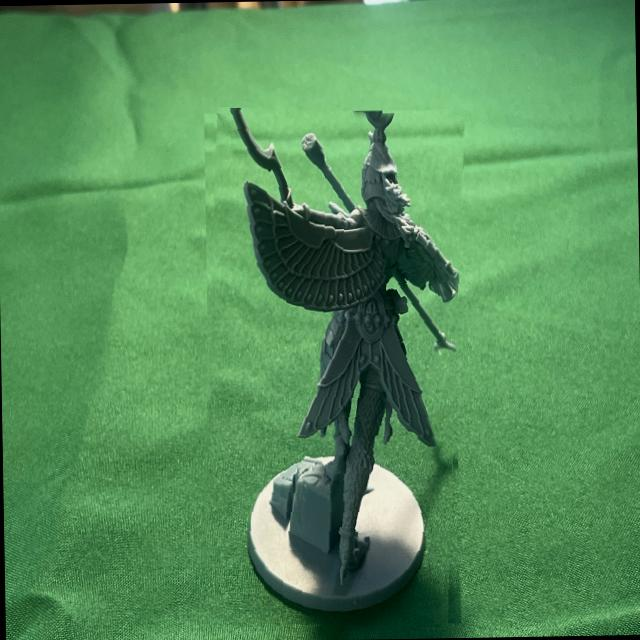isis: (198, 107, 468, 630)
